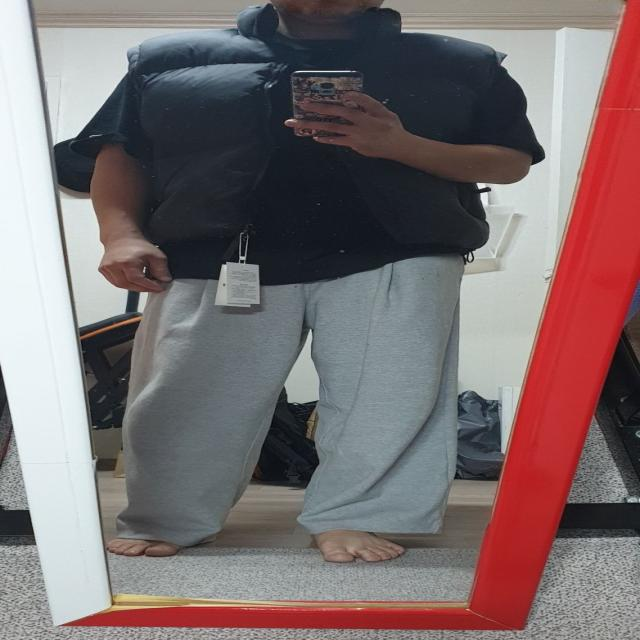padding: (121, 3, 499, 252)
trainingpants: (116, 242, 466, 544)
